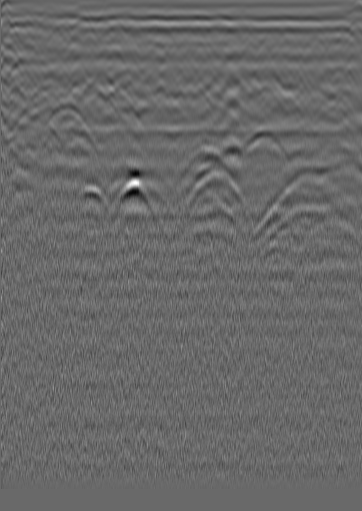가스: (110, 177, 153, 213)
상수: (305, 32, 325, 52)
오수: (43, 27, 63, 47)
우수: (179, 28, 199, 48)
